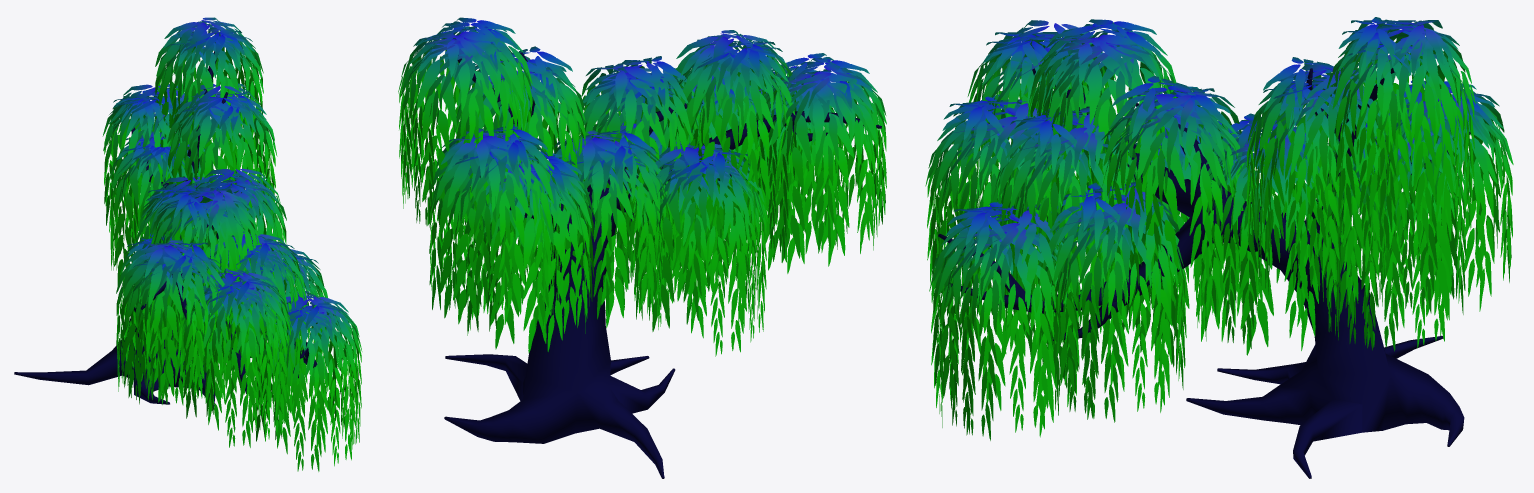
Rendered from NewWeepingWillow 1.fbx.
The picture shows the model from 3 angles, left to right: view 1: azimuth 30°, elevation 25°; view 2: azimuth 150°, elevation 25°; view 3: azimuth 270°, elevation 25°; orthographic projection. The views are drawn at different scales.
Visible parts, largest first — view 1: Trunk; view 2: Trunk; view 3: Trunk.
Boxes of the visible parts, x1,y1,x2,y2 form: Trunk: (14, 17, 362, 471); Trunk: (398, 17, 886, 478); Trunk: (925, 17, 1513, 478).
Bounding box in the file's own units: 7.63 × 8.78 × 10.85.
